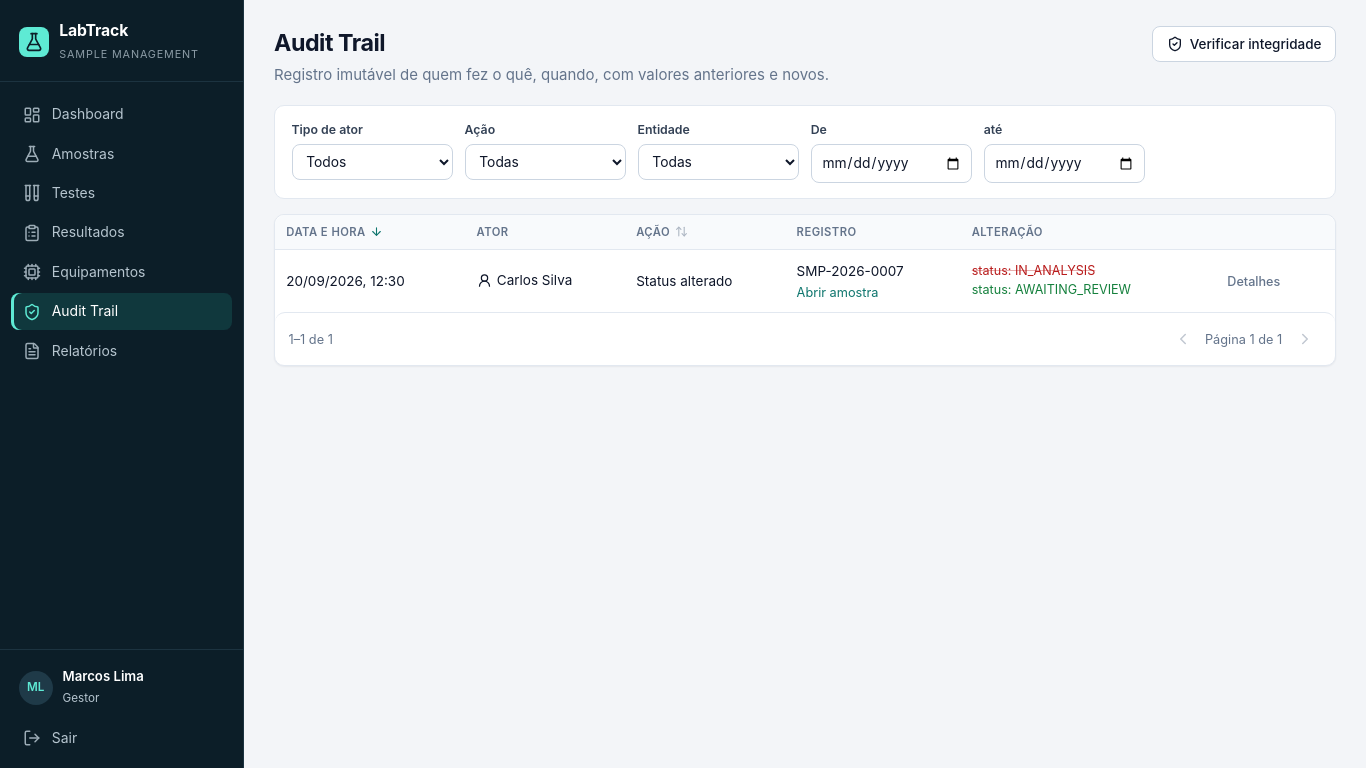
Test: Audit trail › mostra quem fez o quê, os valores e os hashes do registro
Expected: the text "Carlos Silva" is shown, left=477, top=270, right=572, bottom=290
Expected: the text "status: IN_ANALYSIS" is shown, left=972, top=263, right=1095, bottom=278
Click the button "Detalhes": (1254, 281) left=1217, top=266, right=1290, bottom=296
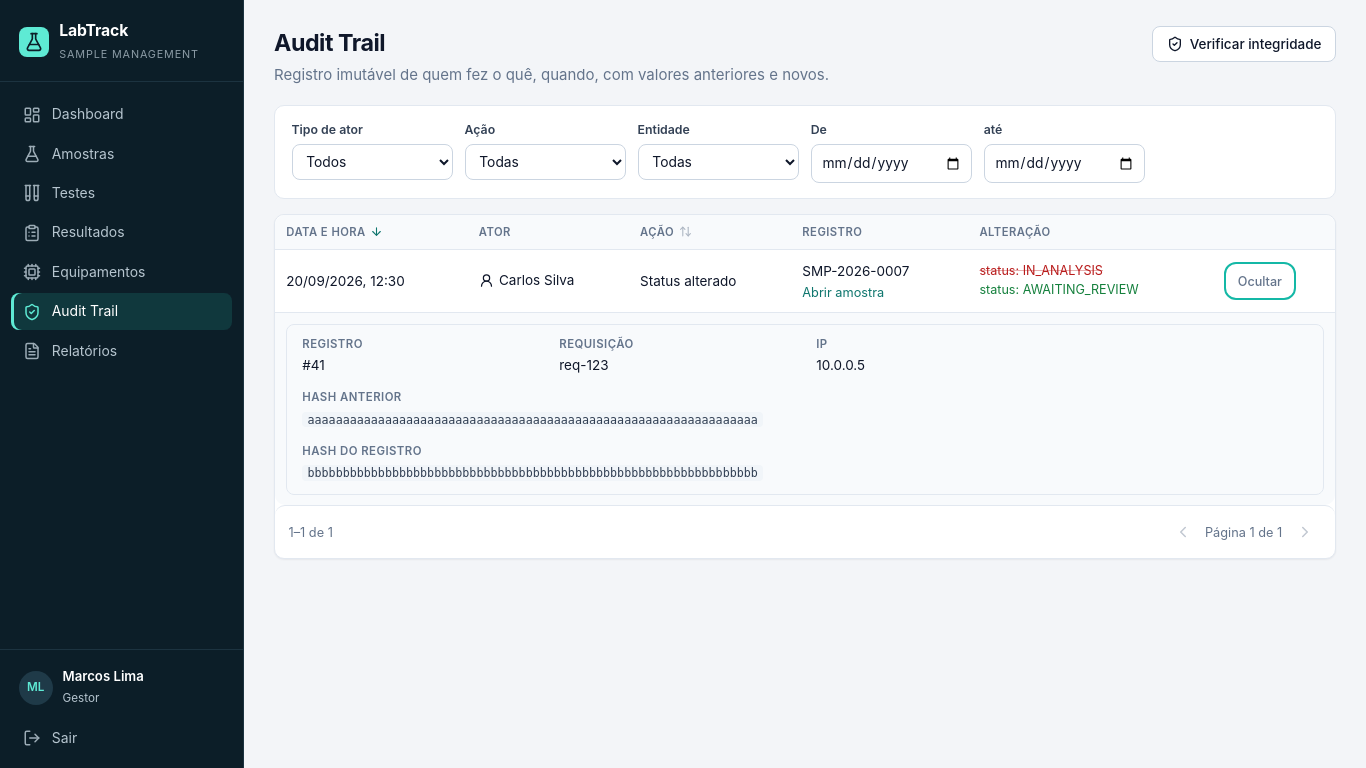
Expected: the text "#41" is shown, left=302, top=357, right=325, bottom=373
Expected: the text "req-123" is shown, left=559, top=357, right=609, bottom=373
Expected: the button "Ocultar" is expanded, left=1228, top=266, right=1292, bottom=296
